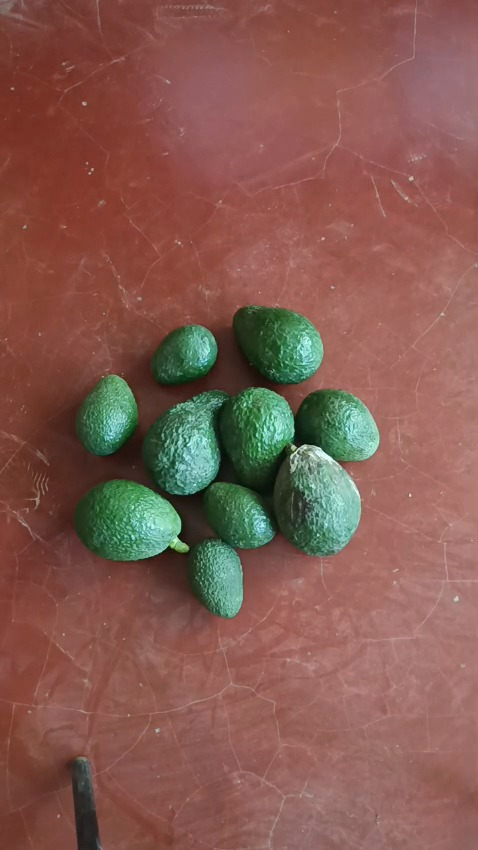Primera: (271, 445, 360, 555), (141, 391, 229, 496), (73, 478, 183, 560), (218, 387, 294, 490), (232, 306, 322, 384)
Segunda: (294, 388, 380, 462), (74, 372, 139, 455)
Tercera: (202, 481, 276, 549), (186, 538, 243, 616), (149, 325, 217, 386)
